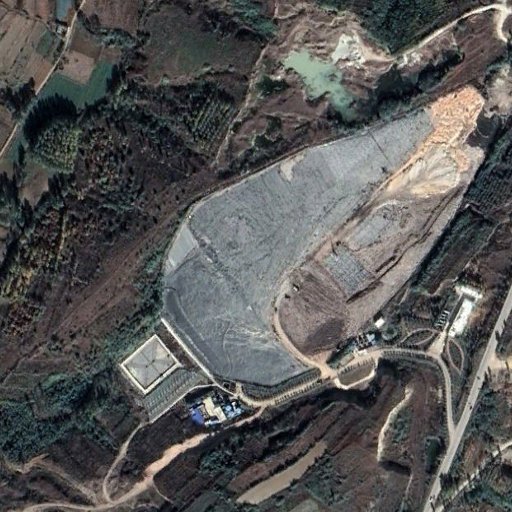lf: (160, 87, 484, 397)
